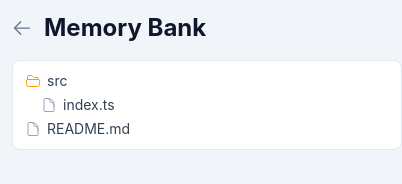
GitTemplateFilesView › shows the mobile-only "Back to files" button after a file is selected
This screenshot has width=402, height=184.
Click the button "README.md" at (89, 128), box [21,117,393,141]
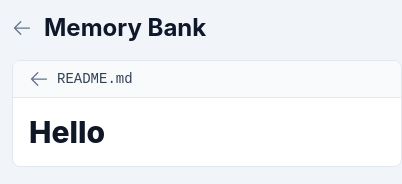
Expected: the button named "Back to files" is shown, [29,69,49,89]
